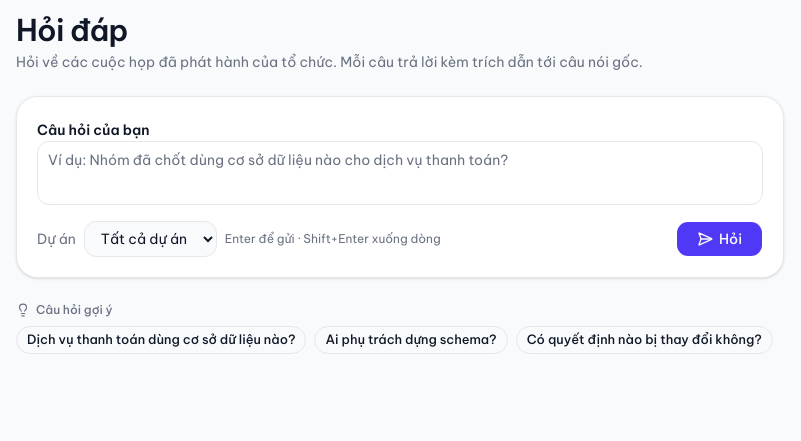
it: error message displayed
Click the button "Ai phụ trách dựng schema?" at {"x": 411, "y": 340}, box left=314, top=326, right=508, bottom=354
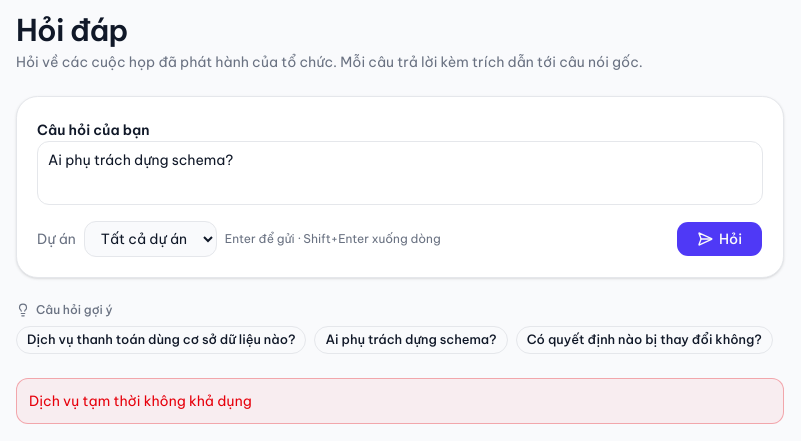
Check: the message reads "Dịch vụ tạm thời không khả dụng", box left=29, top=392, right=252, bottom=410
